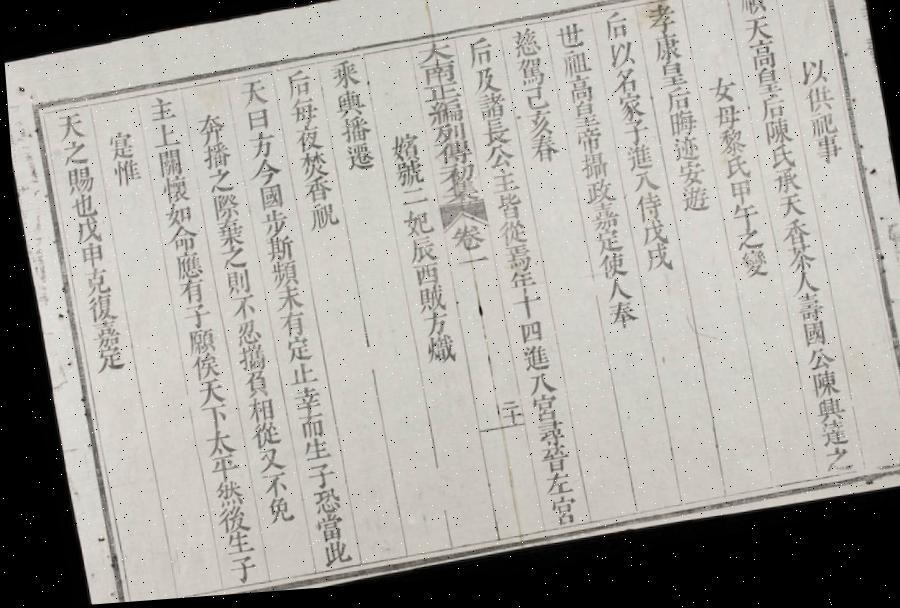c: (442, 227, 484, 261), (640, 10, 680, 45), (536, 500, 574, 536), (323, 62, 362, 97), (48, 110, 88, 144), (505, 33, 543, 68), (281, 388, 320, 422), (646, 40, 685, 74), (420, 104, 464, 134), (190, 112, 226, 148), (520, 398, 558, 432), (792, 66, 830, 100), (382, 135, 420, 169), (394, 212, 432, 246), (300, 204, 338, 238), (742, 50, 780, 84), (429, 145, 472, 175), (100, 128, 136, 163), (278, 70, 314, 105), (731, 258, 768, 292), (302, 514, 339, 548), (415, 340, 453, 373), (58, 164, 96, 197), (202, 479, 240, 512), (549, 28, 588, 60), (291, 153, 330, 185), (597, 17, 632, 52), (511, 62, 547, 96), (216, 554, 252, 588), (73, 265, 110, 298), (797, 96, 835, 128), (232, 80, 270, 112), (160, 224, 198, 256), (104, 158, 142, 190), (207, 220, 245, 252), (672, 193, 710, 225), (334, 119, 372, 151), (470, 98, 508, 130), (328, 92, 366, 124), (503, 298, 541, 330), (86, 345, 124, 377), (77, 294, 116, 325), (415, 66, 458, 94), (412, 45, 455, 73), (463, 41, 497, 76), (702, 84, 738, 117), (560, 82, 596, 115), (636, 252, 672, 285), (711, 136, 747, 169), (806, 144, 842, 177), (652, 68, 689, 100), (287, 127, 324, 159), (165, 252, 202, 284), (523, 142, 560, 174), (572, 159, 609, 191), (529, 452, 566, 484), (778, 254, 815, 286), (66, 215, 103, 247), (244, 160, 282, 191), (598, 308, 636, 339), (554, 56, 592, 87), (194, 429, 232, 460), (206, 506, 244, 537), (254, 496, 288, 530), (150, 148, 184, 182), (488, 198, 524, 230), (241, 133, 277, 165), (774, 228, 810, 260), (204, 194, 240, 226), (512, 350, 548, 382), (466, 72, 502, 104), (195, 142, 231, 174), (619, 150, 655, 182), (142, 94, 178, 126), (186, 378, 223, 409), (408, 290, 445, 321), (747, 77, 784, 108), (737, 26, 775, 56), (260, 262, 298, 292), (810, 456, 848, 486), (82, 321, 120, 351), (798, 380, 836, 410), (253, 210, 288, 242), (626, 200, 662, 231), (610, 101, 646, 132), (400, 240, 436, 271), (388, 165, 424, 196), (283, 100, 319, 131), (338, 146, 374, 177), (632, 227, 668, 258), (178, 328, 214, 359), (301, 489, 337, 520), (199, 454, 236, 484), (53, 138, 90, 168), (418, 87, 462, 112), (732, 0, 771, 28), (434, 168, 476, 194), (436, 185, 478, 211), (603, 47, 637, 79), (496, 250, 532, 280), (482, 174, 518, 204), (582, 210, 618, 240), (568, 134, 604, 164), (590, 260, 626, 290), (182, 354, 218, 384), (266, 288, 302, 318), (296, 180, 332, 210), (236, 398, 272, 428), (664, 144, 700, 174), (228, 346, 264, 376), (154, 176, 190, 206), (258, 237, 294, 267), (752, 104, 788, 134), (808, 430, 844, 460), (802, 122, 838, 152), (526, 428, 562, 458), (786, 304, 822, 334), (309, 542, 345, 572), (225, 320, 259, 351), (520, 116, 554, 147), (242, 422, 276, 453), (766, 178, 801, 208), (669, 168, 704, 198), (233, 372, 268, 402), (220, 296, 255, 326), (662, 119, 697, 149), (269, 312, 304, 342), (426, 127, 468, 152), (296, 464, 331, 494), (174, 304, 209, 334), (146, 122, 181, 152), (586, 236, 622, 265), (578, 186, 614, 215), (532, 477, 568, 506), (607, 75, 640, 106), (247, 448, 280, 479), (716, 163, 750, 193), (276, 338, 310, 368), (566, 108, 600, 138), (216, 270, 250, 300), (708, 112, 742, 142), (200, 168, 234, 198), (287, 416, 321, 446), (191, 404, 225, 434), (292, 438, 326, 468), (238, 108, 272, 138), (616, 126, 650, 156), (170, 279, 205, 308), (770, 203, 805, 232), (249, 473, 284, 502), (805, 407, 840, 436), (476, 125, 511, 154), (478, 150, 514, 178), (517, 378, 553, 406), (758, 128, 791, 158), (792, 330, 825, 360), (762, 154, 796, 183), (414, 315, 448, 344), (70, 241, 104, 270), (727, 236, 762, 264), (448, 256, 488, 280), (517, 92, 550, 121), (251, 186, 284, 215), (724, 212, 757, 241), (596, 285, 630, 313), (406, 266, 440, 294), (658, 95, 692, 123), (492, 226, 526, 254), (280, 364, 314, 392), (212, 532, 246, 560), (796, 356, 830, 384), (158, 203, 193, 230), (212, 247, 246, 274), (624, 177, 658, 204), (783, 280, 817, 307), (62, 192, 96, 219), (510, 324, 542, 352), (722, 188, 752, 216), (499, 276, 534, 300), (393, 192, 427, 216), (494, 416, 515, 433), (492, 402, 513, 418)
